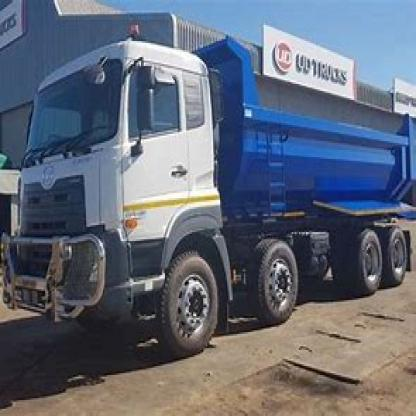dump_truck: (0, 27, 415, 353)
